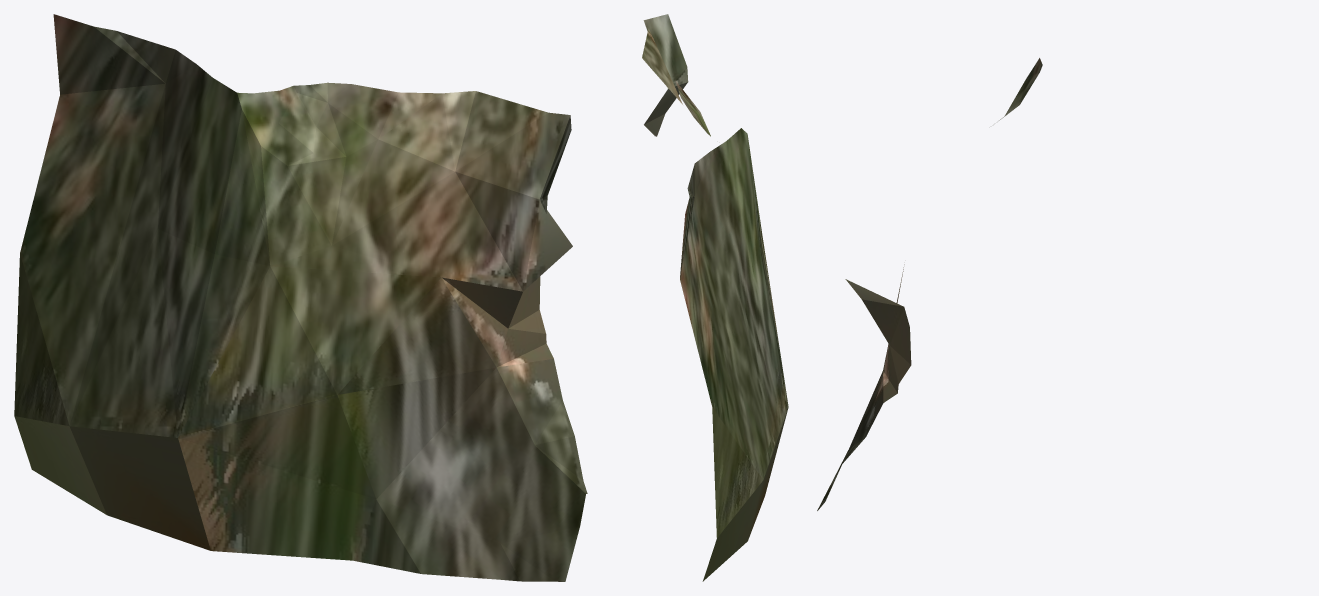
The picture shows the model from 3 angles, left to right: view 1: azimuth 30°, elevation 25°; view 2: azimuth 150°, elevation 25°; view 3: azimuth 270°, elevation 25°; orthographic projection. The views are drawn at different scales.
Bounding box in the file's own units: 2.24 × 2.95 × 2.95.
3 materials, 3 textured.
